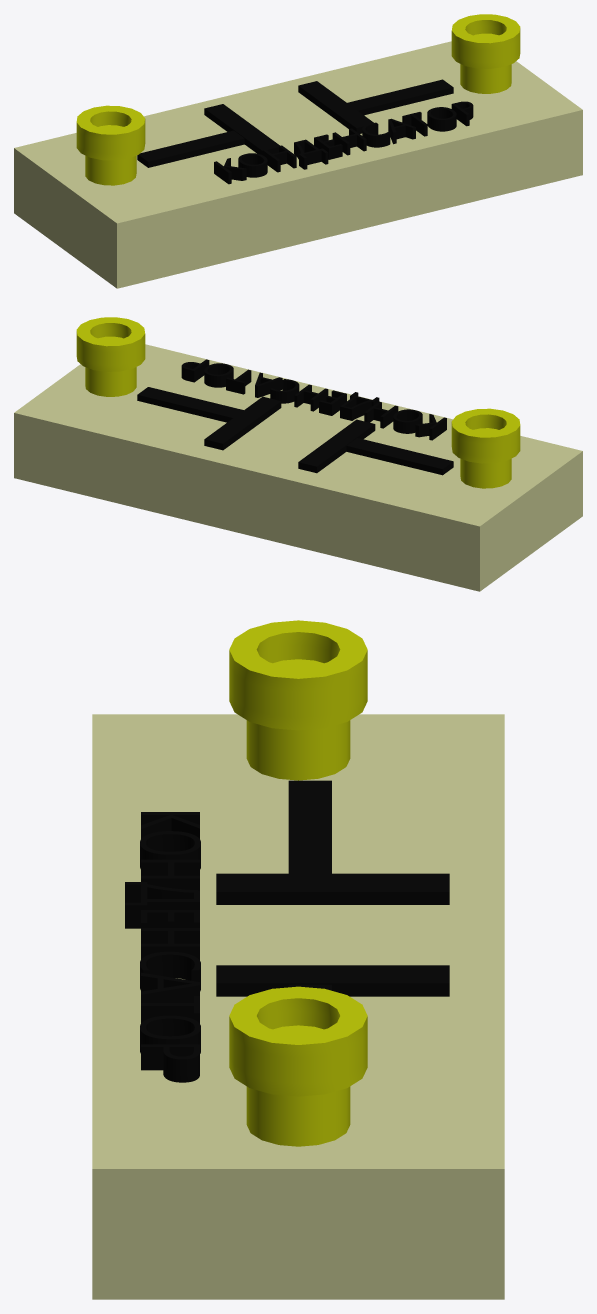
Rendered from конденсатор.fbx.
The picture shows the model from 3 angles, top to bottom: view 1: azimuth 30°, elevation 25°; view 2: azimuth 150°, elevation 25°; view 3: azimuth 270°, elevation 25°; orthographic projection. The views are drawn at different scales.
Visible parts, largest first — view 1: Симметрия_2; view 2: Симметрия_2; view 3: Симметрия_2.
Part boxes in pixels (x1=…): Симметрия_2: x1=14, y1=14, x2=582, y2=288; Симметрия_2: x1=14, y1=317, x2=582, y2=591; Симметрия_2: x1=92, y1=620, x2=504, y2=1299.
Bounding box in the file's own units: 521 × 128 × 200.
